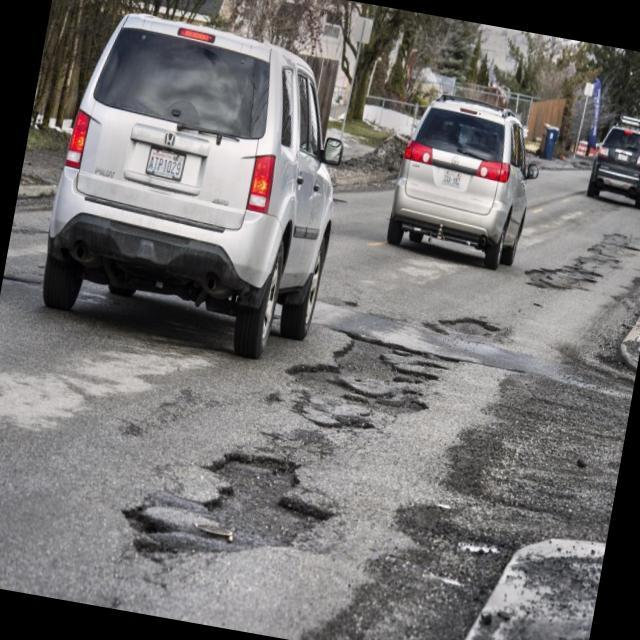Pothole: (105, 421, 332, 588), (283, 302, 473, 462), (520, 209, 640, 319), (416, 290, 528, 356)
